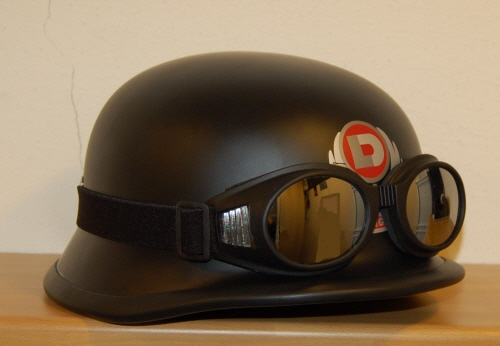helmet: (69, 58, 474, 310)
